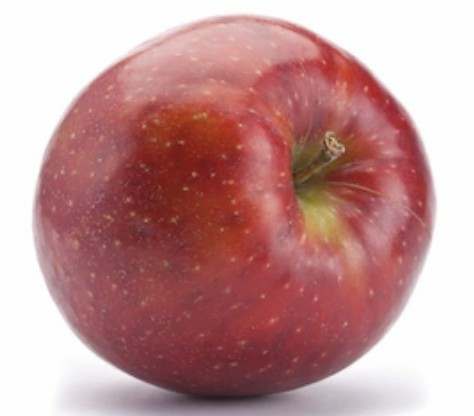fresh_apple: (28, 15, 435, 395)
